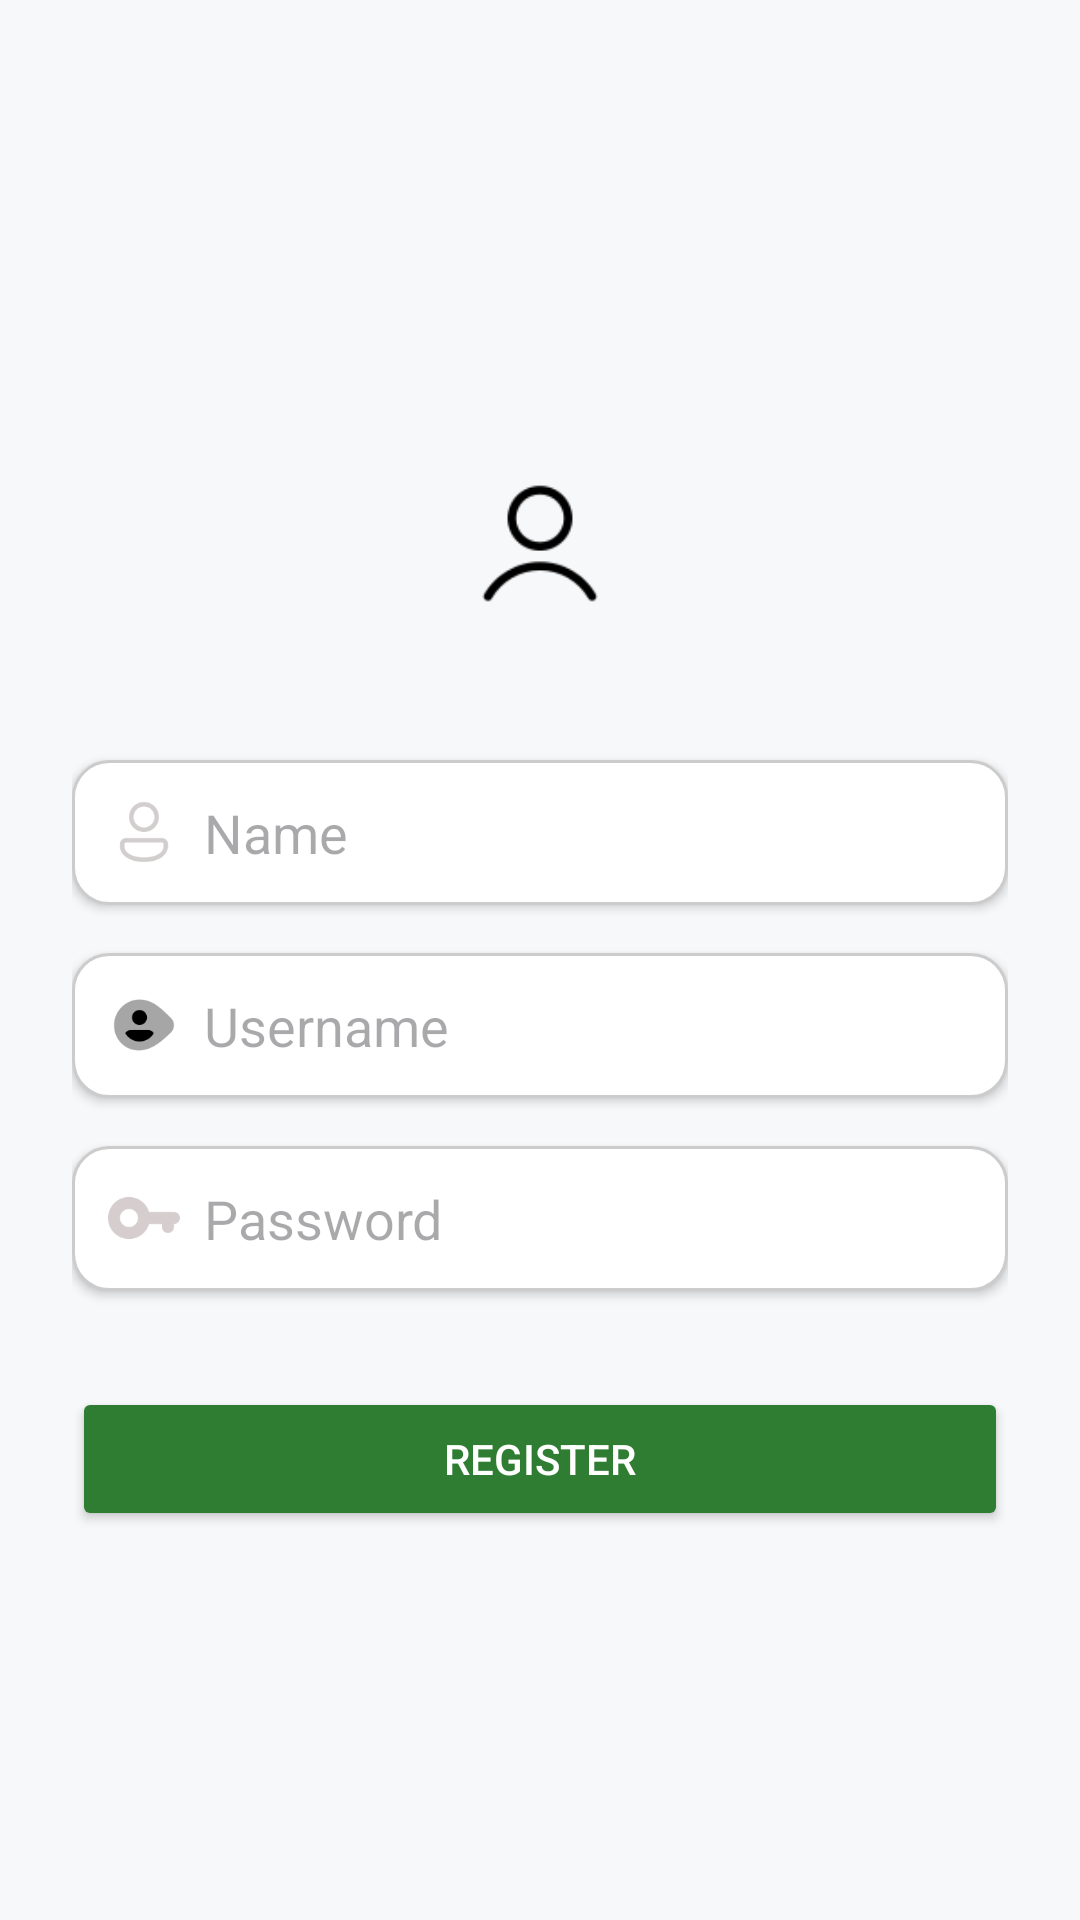

Screen size 1080 x 1920. Icon name, then its box in pixels as (x1, y1, x2, y2):
person: (120, 802, 168, 862)
user: (482, 485, 598, 602)
